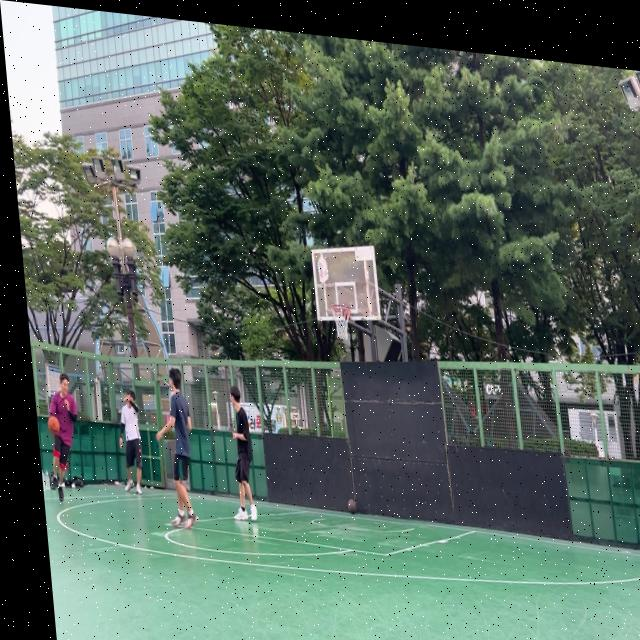basketball: (47, 415, 61, 436), (347, 498, 358, 515)
hoop: (330, 304, 353, 341)
